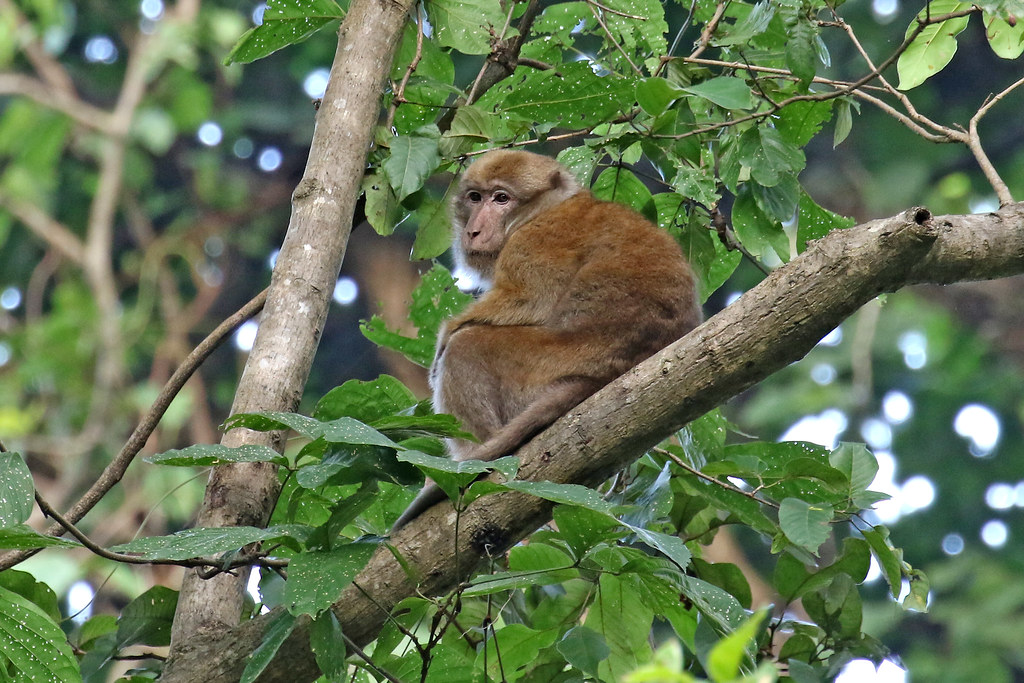monkey: (420, 139, 707, 489)
